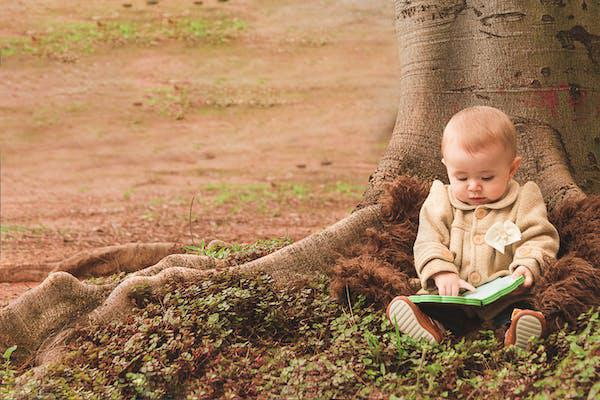child: (378, 102, 563, 362)
